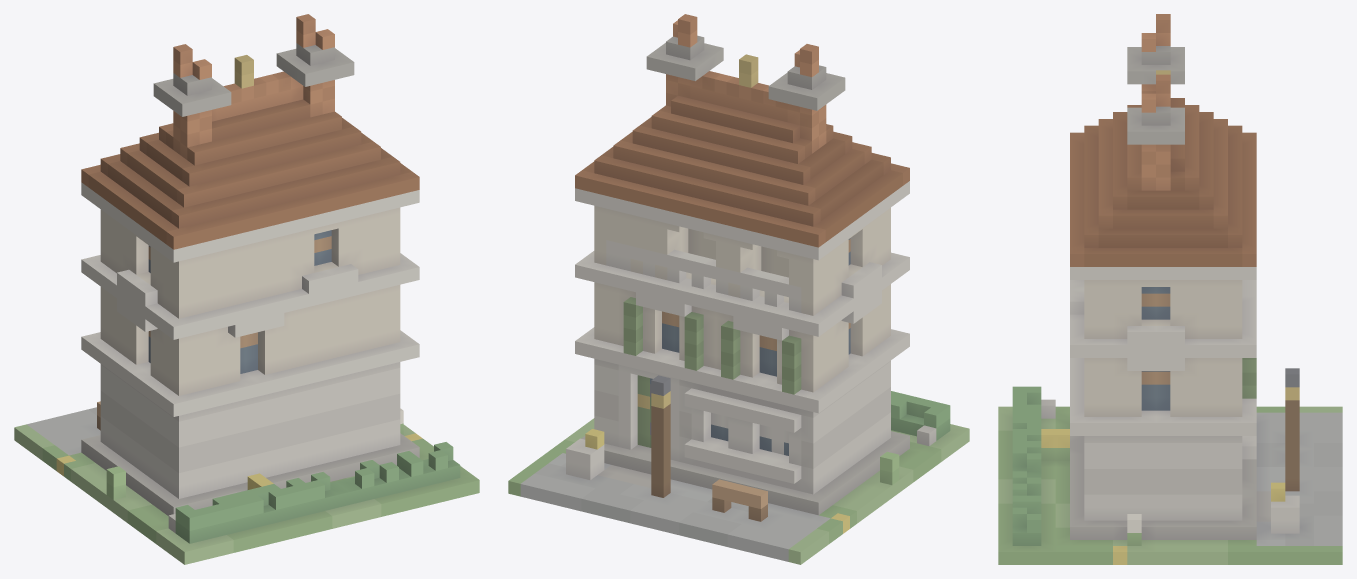
Rendered from house_patricians.v1.glb.
The picture shows the model from 3 angles, left to right: view 1: azimuth 30°, elevation 25°; view 2: azimuth 150°, elevation 25°; view 3: azimuth 270°, elevation 25°; orthographic projection.
Parts seen in each view (by area): view 1: house_patricians; view 2: house_patricians; view 3: house_patricians.
Part boxes in pixels (x1=…): house_patricians: x1=14, y1=14, x2=479, y2=564; house_patricians: x1=508, y1=14, x2=969, y2=564; house_patricians: x1=998, y1=14, x2=1342, y2=564.
Size of the model in its own units: 3 by 4.25 by 3.
